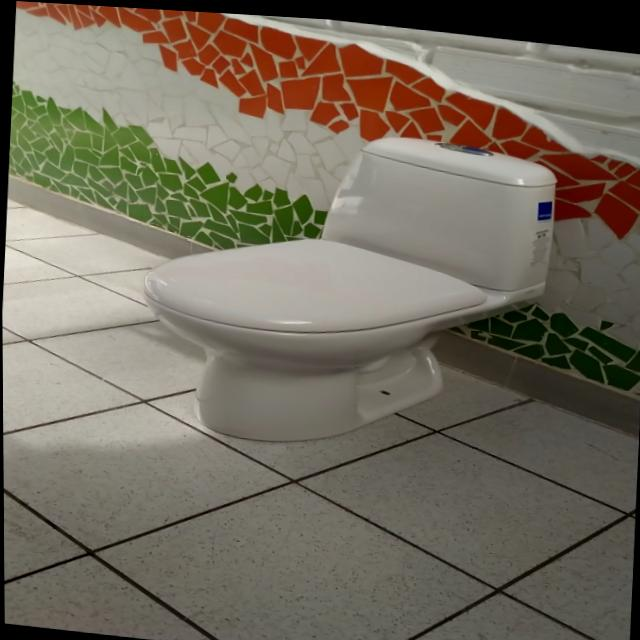toilet: (133, 105, 560, 466)
